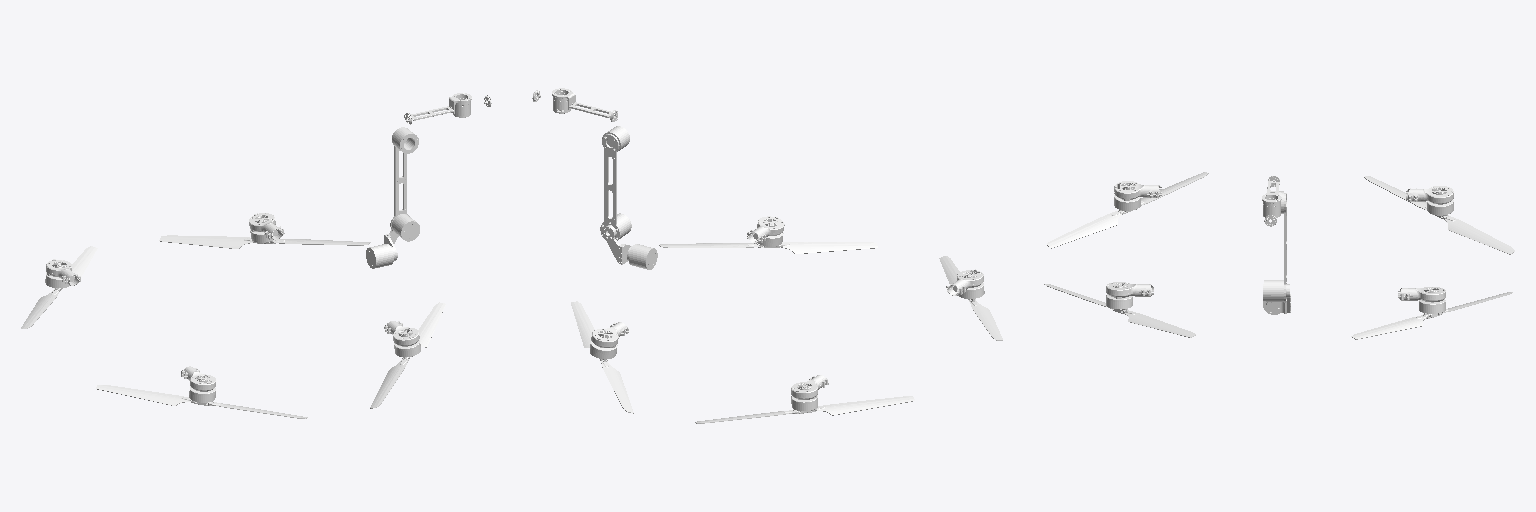
URDF robot description (ll100_lh420):
<?xml version="1.0" encoding="utf-8"?>
<!-- This URDF was automatically created by SolidWorks to URDF Exporter! Originally created by Stephen Brawner (brawner@gmail.com) 
     Commit Version: 1.6.0-4-g7f85cfe  Build Version: 1.6.7995.38578
     For more information, please see http://wiki.ros.org/sw_urdf_exporter -->
<robot
  name="ll100_lh420">
  <link
    name="base_link">
    <inertial>
      <origin
        xyz="-0.0035513 0.0013 -0.050331"
        rpy="0 0 0" />
      <mass
        value="8.057" />
      <inertia
        ixx="0.078395"
        ixy="0"
        ixz="0"
        iyy="0.422973"
        iyz="0"
        izz="0.493568" />
    </inertial>
    <visual>
      <origin
        xyz="0 0 0"
        rpy="0 0 0" />
      <geometry>
        <mesh
          filename="package://manipulator/meshes/ll100_lh420/base_link.STL" />
      </geometry>
      <material
        name="">
        <color
          rgba="0.75294 0.75294 0.75294 1" />
      </material>
    </visual>
    <collision>
      <origin
        xyz="0 0 0"
        rpy="0 0 0" />
      <geometry>
        <mesh
          filename="package://manipulator/meshes/ll100_lh420/base_link.STL" />
      </geometry>
    </collision>
  </link>
  <link
    name="rot1_Link">
    <inertial>
      <origin
        xyz="0.0052133 0.00055592 -0.044441"
        rpy="0 0 0" />
      <mass
        value="0.471" />
      <inertia
        ixx="2.787E-04"
        ixy="0"
        ixz="0"
        iyy="1.872E-04"
        iyz="0"
        izz="1.874E-04" />
    </inertial>
    <visual>
      <origin
        xyz="0 0 0"
        rpy="0 0 0" />
      <geometry>
        <mesh
          filename="package://manipulator/meshes/ll100_lh420/rot1_Link.STL" />
      </geometry>
      <material
        name="">
        <color
          rgba="1 1 1 1" />
      </material>
    </visual>
    <collision>
      <origin
        xyz="0 0 0"
        rpy="0 0 0" />
      <geometry>
        <mesh
          filename="package://manipulator/meshes/ll100_lh420/rot1_Link.STL" />
      </geometry>
    </collision>
  </link>
  <joint
    name="rot1_Joint"
    type="continuous">
    <origin
      xyz="0.29254 -0.40851 -0.058329"
      rpy="0 0 -0.034907" />
    <parent
      link="base_link" />
    <child
      link="rot1_Link" />
    <axis
      xyz="0 0 -1" />
  </joint>
  <link
    name="rot2_Link">
    <inertial>
      <origin
        xyz="-0.00055256 -0.00036989 -0.04471"
        rpy="0 0 0" />
      <mass
        value="0.471" />
      <inertia
        ixx="2.787E-04"
        ixy="0"
        ixz="0"
        iyy="1.872E-04"
        iyz="0"
        izz="1.874E-04" />
    </inertial>
    <visual>
      <origin
        xyz="0 0 0"
        rpy="0 0 0" />
      <geometry>
        <mesh
          filename="package://manipulator/meshes/ll100_lh420/rot2_Link.STL" />
      </geometry>
      <material
        name="">
        <color
          rgba="1 1 1 1" />
      </material>
    </visual>
    <collision>
      <origin
        xyz="0 0 0"
        rpy="0 0 0" />
      <geometry>
        <mesh
          filename="package://manipulator/meshes/ll100_lh420/rot2_Link.STL" />
      </geometry>
    </collision>
  </link>
  <joint
    name="rot2_Joint"
    type="continuous">
    <origin
      xyz="-0.27747 0.4055 -0.058247"
      rpy="0.038594 0.0021601 1.48" />
    <parent
      link="base_link" />
    <child
      link="rot2_Link" />
    <axis
      xyz="0 0 -1" />
  </joint>
  <link
    name="rot3_Link">
    <inertial>
      <origin
        xyz="0.00023425 -3.3312E-06 -0.04471"
        rpy="0 0 0" />
      <mass
        value="0.471" />
      <inertia
        ixx="2.787E-04"
        ixy="0"
        ixz="0"
        iyy="1.872E-04"
        iyz="0"
        izz="1.874E-04" />
    </inertial>
    <visual>
      <origin
        xyz="0 0 0"
        rpy="0 0 0" />
      <geometry>
        <mesh
          filename="package://manipulator/meshes/ll100_lh420/rot3_Link.STL" />
      </geometry>
      <material
        name="">
        <color
          rgba="1 1 1 1" />
      </material>
    </visual>
    <collision>
      <origin
        xyz="0 0 0"
        rpy="0 0 0" />
      <geometry>
        <mesh
          filename="package://manipulator/meshes/ll100_lh420/rot3_Link.STL" />
      </geometry>
    </collision>
  </link>
  <joint
    name="rot3_Joint"
    type="continuous">
    <origin
      xyz="0.32013 0.38551 -0.058348"
      rpy="0.13586 -0.002121 -1.5902" />
    <parent
      link="base_link" />
    <child
      link="rot3_Link" />
    <axis
      xyz="0 0 -1" />
  </joint>
  <link
    name="rot4_Link">
    <inertial>
      <origin
        xyz="0.00037994 3.5059E-05 -0.045023"
        rpy="0 0 0" />
      <mass
        value="0.471" />
      <inertia
        ixx="2.787E-04"
        ixy="0"
        ixz="0"
        iyy="1.872E-04"
        iyz="0"
        izz="1.874E-04" />
    </inertial>
    <visual>
      <origin
        xyz="0 0 0"
        rpy="0 0 0" />
      <geometry>
        <mesh
          filename="package://manipulator/meshes/ll100_lh420/rot4_Link.STL" />
      </geometry>
      <material
        name="">
        <color
          rgba="1 1 1 1" />
      </material>
    </visual>
    <collision>
      <origin
        xyz="0 0 0"
        rpy="0 0 0" />
      <geometry>
        <mesh
          filename="package://manipulator/meshes/ll100_lh420/rot4_Link.STL" />
      </geometry>
    </collision>
  </link>
  <joint
    name="rot4_Joint"
    type="continuous">
    <origin
      xyz="-0.30506 -0.38852 -0.058253"
      rpy="0.050542 0.0021537 1.4933" />
    <parent
      link="base_link" />
    <child
      link="rot4_Link" />
    <axis
      xyz="0 0 -1" />
  </joint>
  <link
    name="arm_base_Link">
    <inertial>
      <origin
        xyz="-3.1975E-09 3.8507E-09 0.025297"
        rpy="0 0 0" />
      <mass
        value="0.361" />
      <inertia
        ixx="0.00014566"
        ixy="0"
        ixz="0"
        iyy="0.00015872"
        iyz="0"
        izz="0.00015872" />
    </inertial>
    <visual>
      <origin
        xyz="0 0 0"
        rpy="0 0 0" />
      <geometry>
        <mesh
          filename="package://manipulator/meshes/ll100_lh420/arm_base_Link.STL" />
      </geometry>
      <material
        name="">
        <color
          rgba="1 1 1 1" />
      </material>
    </visual>
    <collision>
      <origin
        xyz="0 0 0"
        rpy="0 0 0" />
      <geometry>
        <mesh
          filename="package://manipulator/meshes/ll100_lh420/arm_base_Link.STL" />
      </geometry>
    </collision>
  </link>
  <joint
    name="arm_base_Joint"
    type="fixed">
    <origin
      xyz="0.4159 -0.015325 -0.030127"
      rpy="1.5708 0.0021304 1.5359" />
    <parent
      link="base_link" />
    <child
      link="arm_base_Link" />
    <axis
      xyz="0 0 0" />
  </joint>
  <link
    name="A_Link">
    <inertial>
      <origin
        xyz="0.012857 0.027376 0.019773"
        rpy="0 0 0" />
      <mass
        value="0.482" />
      <inertia
        ixx="0.00048916"
        ixy="0"
        ixz="0"
        iyy="0.00049299"
        iyz="0"
        izz="0.0003462" />
    </inertial>
    <visual>
      <origin
        xyz="0 0 0"
        rpy="0 0 0" />
      <geometry>
        <mesh
          filename="package://manipulator/meshes/ll100_lh420/A_Link.STL" />
      </geometry>
      <material
        name="">
        <color
          rgba="1 1 1 1" />
      </material>
    </visual>
    <collision>
      <origin
        xyz="0 0 0"
        rpy="0 0 0" />
      <geometry>
        <mesh
          filename="package://manipulator/meshes/ll100_lh420/A_Link.STL" />
      </geometry>
    </collision>
  </link>
  <joint
    name="A_Joint"
    type="continuous">
    <origin
      xyz="0 0 0.05225"
      rpy="0 0 0" />
    <parent
      link="arm_base_Link" />
    <child
      link="A_Link" />
    <axis
      xyz="0 0 1" />
  </joint>
  <link
    name="B_Link">
    <inertial>
      <origin
        xyz="6.9577E-05 0.11764 -0.019542"
        rpy="0 0 0" />
      <mass
        value="0.481" />
      <inertia
        ixx="0.0015459"
        ixy="0"
        ixz="0"
        iyy="0.0025514"
        iyz="0"
        izz="0.0012874" />
    </inertial>
    <visual>
      <origin
        xyz="0 0 0"
        rpy="0 0 0" />
      <geometry>
        <mesh
          filename="package://manipulator/meshes/ll100_lh420/B_Link.STL" />
      </geometry>
      <material
        name="">
        <color
          rgba="1 1 1 1" />
      </material>
    </visual>
    <collision>
      <origin
        xyz="0 0 0"
        rpy="0 0 0" />
      <geometry>
        <mesh
          filename="package://manipulator/meshes/ll100_lh420/B_Link.STL" />
      </geometry>
    </collision>
  </link>
  <joint
    name="B_Joint"
    type="continuous">
    <origin
      xyz="0.028863 0.064129 0.052036"
      rpy="1.5708 1.5702 1.5729" />
    <parent
      link="A_Link" />
    <child
      link="B_Link" />
    <axis
      xyz="0 0 1" />
  </joint>
  <link
    name="C_Link">
    <inertial>
      <origin
        xyz="-0.0022436 0.032052 -0.017344"
        rpy="0 0 0" />
      <mass
        value="0.239" />
      <inertia
        ixx="0.00014499"
        ixy="0"
        ixz="0"
        iyy="0.0001552"
        iyz="0"
        izz="0.00010724" />
    </inertial>
    <visual>
      <origin
        xyz="0 0 0"
        rpy="0 0 0" />
      <geometry>
        <mesh
          filename="package://manipulator/meshes/ll100_lh420/C_Link.STL" />
      </geometry>
      <material
        name="">
        <color
          rgba="1 1 1 1" />
      </material>
    </visual>
    <collision>
      <origin
        xyz="0 0 0"
        rpy="0 0 0" />
      <geometry>
        <mesh
          filename="package://manipulator/meshes/ll100_lh420/C_Link.STL" />
      </geometry>
    </collision>
  </link>
  <joint
    name="C_Joint"
    type="continuous">
    <origin
      xyz="0.00014704 0.24873 -0.04605"
      rpy="3.1416 0 3.1416" />
    <parent
      link="B_Link" />
    <child
      link="C_Link" />
    <axis
      xyz="0 0 1" />
  </joint>
  <link
    name="D_Link">
    <inertial>
      <origin
        xyz="2.838E-05 0.004264 0.11822"
        rpy="0 0 0" />
      <mass
        value="0.262" />
      <inertia
        ixx="0.00010245"
        ixy="0"
        ixz="0"
        iyy="0.00052076"
        iyz="0"
        izz="0.0005369" />
    </inertial>
    <visual>
      <origin
        xyz="0 0 0"
        rpy="0 0 0" />
      <geometry>
        <mesh
          filename="package://manipulator/meshes/ll100_lh420/D_Link.STL" />
      </geometry>
      <material
        name="">
        <color
          rgba="1 1 1 1" />
      </material>
    </visual>
    <collision>
      <origin
        xyz="0 0 0"
        rpy="0 0 0" />
      <geometry>
        <mesh
          filename="package://manipulator/meshes/ll100_lh420/D_Link.STL" />
      </geometry>
    </collision>
  </link>
  <joint
    name="D_Joint"
    type="continuous">
    <origin
      xyz="0.0084627 0.063019 -0.019"
      rpy="-1.5708 1.5687 -1.5702" />
    <parent
      link="C_Link" />
    <child
      link="D_Link" />
    <axis
      xyz="0 0 -1" />
  </joint>
  <link
    name="E_Link">
    <inertial>
      <origin
        xyz="0.053657 -2.4202E-05 -0.012209"
        rpy="0 0 0" />
      <mass
        value="0.042397" />
      <inertia
        ixx="6.544e-05"
        ixy="0"
        ixz="0"
        iyy="5.714e-05"
        iyz="0"
        izz="2.005e-05" />
    </inertial>
    <visual>
      <origin
        xyz="0 0 0"
        rpy="0 0 0" />
      <geometry>
        <mesh
          filename="package://manipulator/meshes/ll100_lh420/E_Link.STL" />
      </geometry>
      <material
        name="">
        <color
          rgba="1 1 1 1" />
      </material>
    </visual>
    <collision>
      <origin
        xyz="0 0 0"
        rpy="0 0 0" />
      <geometry>
        <mesh
          filename="package://manipulator/meshes/ll100_lh420/E_Link.STL" />
      </geometry>
    </collision>
  </link>
  <joint
    name="E_Joint"
    type="continuous">
    <origin
      xyz="-4.2609E-05 0.02 0.1565"
      rpy="-1.5708 -1.5691 0.0021304" />
    <parent
      link="D_Link" />
    <child
      link="E_Link" />
    <axis
      xyz="0 0 -1" />
  </joint>
  <link
    name="F_Link">
    <inertial>
      <origin
        xyz="-1.2677E-10 -3.4411E-10 -0.0012723"
        rpy="0 0 0" />
      <mass
        value="0.192" />
      <inertia
        ixx="8.297e-05"
        ixy="0"
        ixz="0"
        iyy="8.274e-05"
        iyz="0"
        izz="6.854e-05" />
    </inertial>
    <visual>
      <origin
        xyz="0 0 0"
        rpy="0 0 0" />
      <geometry>
        <mesh
          filename="package://manipulator/meshes/ll100_lh420/F_Link.STL" />
      </geometry>
      <material
        name="">
        <color
          rgba="1 1 1 1" />
      </material>
    </visual>
    <collision>
      <origin
        xyz="0 0 0"
        rpy="0 0 0" />
      <geometry>
        <mesh
          filename="package://manipulator/meshes/ll100_lh420/F_Link.STL" />
      </geometry>
    </collision>
  </link>
  <joint
    name="F_Joint"
    type="continuous">
    <origin
      xyz="0.0775 -0.00012788 -0.0215"
      rpy="1.5708 0.3459 1.5691" />
    <parent
      link="E_Link" />
    <child
      link="F_Link" />
    <axis
      xyz="0 0 -1" />
  </joint>
</robot>

--- What the picture shows (computed from the rendered views, not written in the file) ---
The picture shows the robot from 3 angles, left to right: view 1: azimuth 30°, elevation 25°; view 2: azimuth 150°, elevation 25°; view 3: azimuth 270°, elevation 25°; orthographic projection.
Model ll100_lh420 with 12 links and 11 joints (10 continuous, 1 fixed), rooted at base_link, posed all joints at 0.
Links seen in each view (by area): view 1: rot3_Link, rot4_Link, rot1_Link, B_Link, rot2_Link, D_Link, arm_base_Link; view 2: rot1_Link, rot2_Link, rot3_Link, rot4_Link, B_Link, D_Link, arm_base_Link, A_Link; view 3: rot4_Link, rot2_Link, rot1_Link, rot3_Link, B_Link, D_Link.
Link boxes in pixels (box(x1,y1,x2,y2)): rot3_Link: box(159, 213, 370, 248); rot4_Link: box(96, 366, 307, 418); rot1_Link: box(370, 302, 445, 408); B_Link: box(390, 127, 419, 241); rot2_Link: box(21, 246, 97, 328); D_Link: box(404, 93, 471, 124); arm_base_Link: box(366, 244, 393, 268); rot1_Link: box(659, 216, 877, 253); rot2_Link: box(695, 375, 914, 423); rot3_Link: box(571, 301, 633, 413); rot4_Link: box(939, 256, 1002, 340); B_Link: box(600, 126, 631, 240); D_Link: box(552, 88, 617, 121); arm_base_Link: box(629, 244, 657, 269); A_Link: box(602, 225, 631, 264); rot4_Link: box(1047, 172, 1208, 248); rot2_Link: box(1364, 176, 1514, 254); rot1_Link: box(1044, 282, 1195, 337); rot3_Link: box(1351, 287, 1512, 339); B_Link: box(1263, 191, 1286, 302); D_Link: box(1262, 176, 1281, 217).
Size in the robot's own frame: 1.28 by 1.2 by 0.5287 metres.
9 mesh visuals loaded from 12 distinct referenced files (9 binary STL); not drawn: 3 (reference not matched to a file when rendering).
